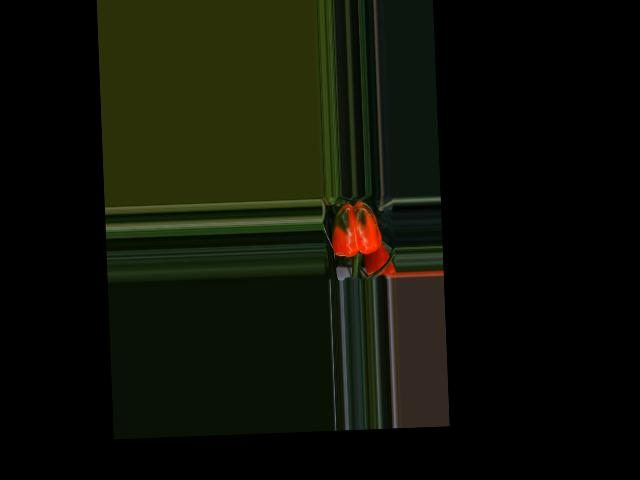bell_pepper: (323, 196, 384, 264)
